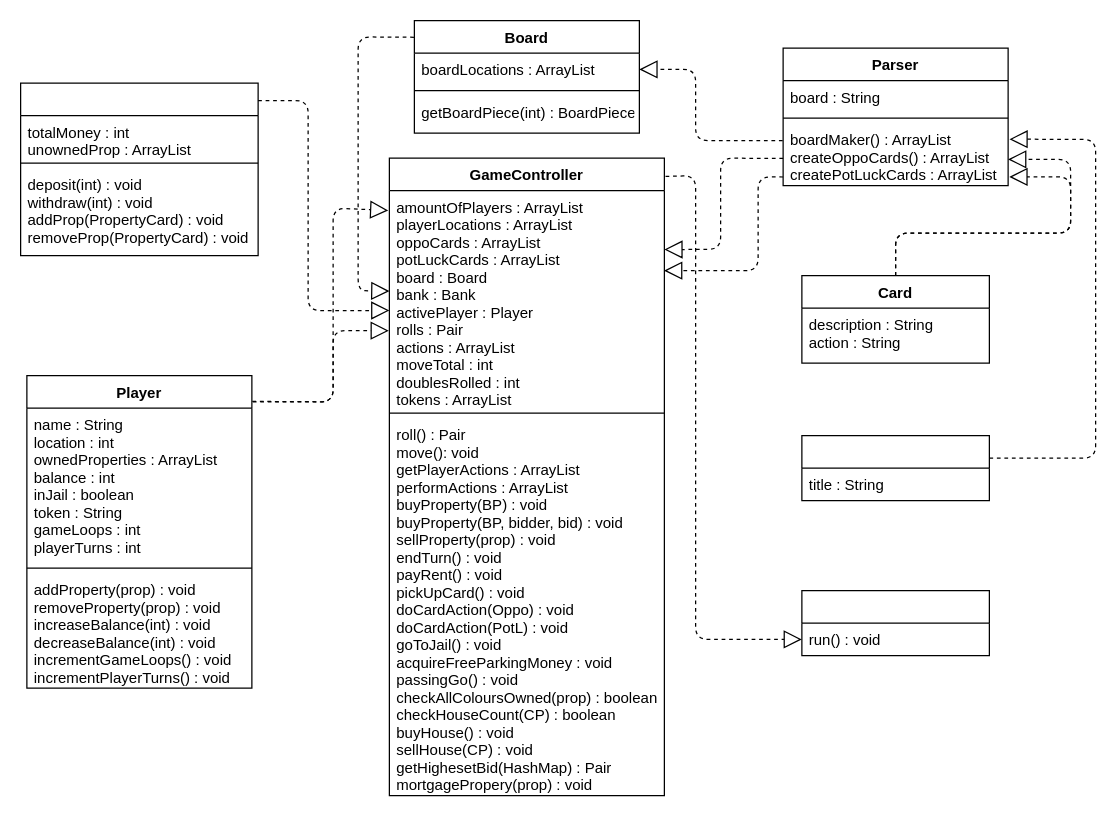
This 1116x816 diagram has some shape labels left out. Here are the shapes that lost their labels. From the top down, the box of each, then its label:
(19, 82, 258, 256): Bank
(801, 434, 989, 501): BoardPiece
(801, 589, 989, 656): Game
